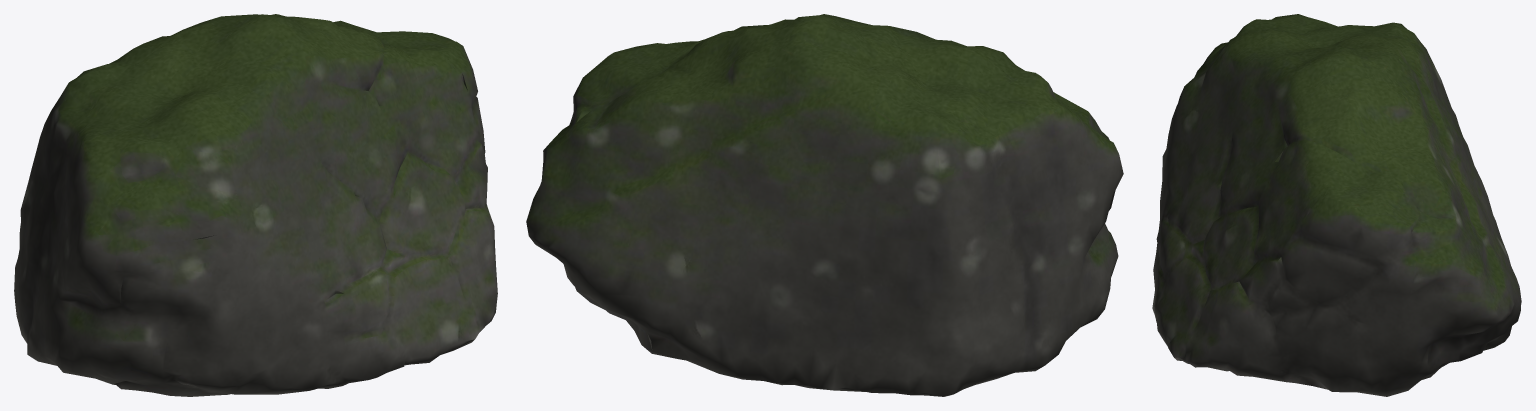
Rendered from rock_mossy_big.glb.
The picture shows the model from 3 angles, left to right: view 1: azimuth 30°, elevation 25°; view 2: azimuth 150°, elevation 25°; view 3: azimuth 270°, elevation 25°; orthographic projection. The views are drawn at different scales.
Parts seen in each view (by area): view 1: rock_mossy_big; view 2: rock_mossy_big; view 3: rock_mossy_big.
Boxes of the visible parts, x1,y1,x2,y2 form: rock_mossy_big: [14, 14, 497, 396]; rock_mossy_big: [526, 14, 1123, 396]; rock_mossy_big: [1152, 14, 1521, 396].
Size of the model in its own units: 2.75 by 1.66 by 2.09.
1 material, 1 textured.
